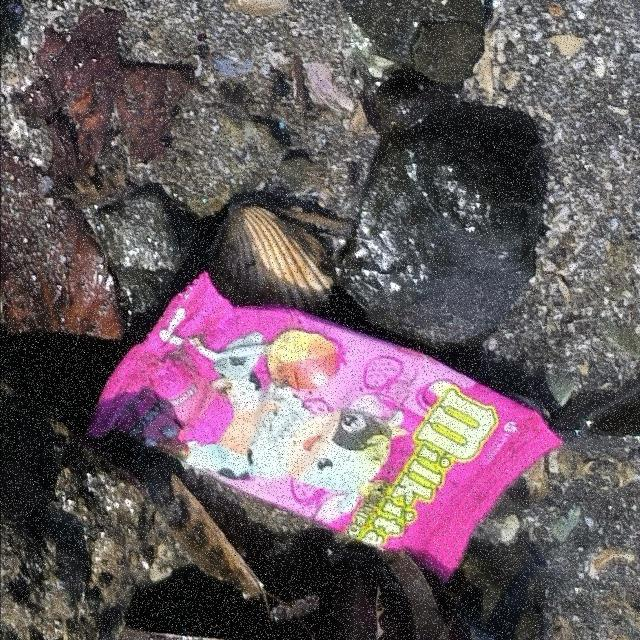plastic_waste: (84, 270, 569, 586)
